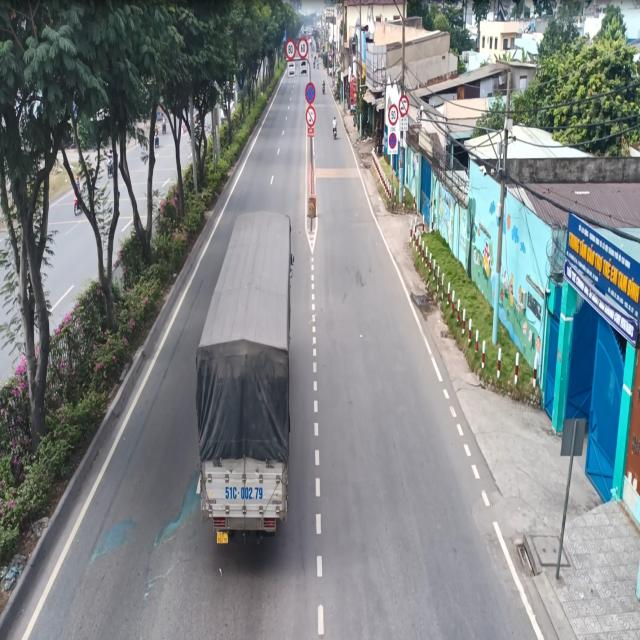truck: (194, 195, 306, 568)
